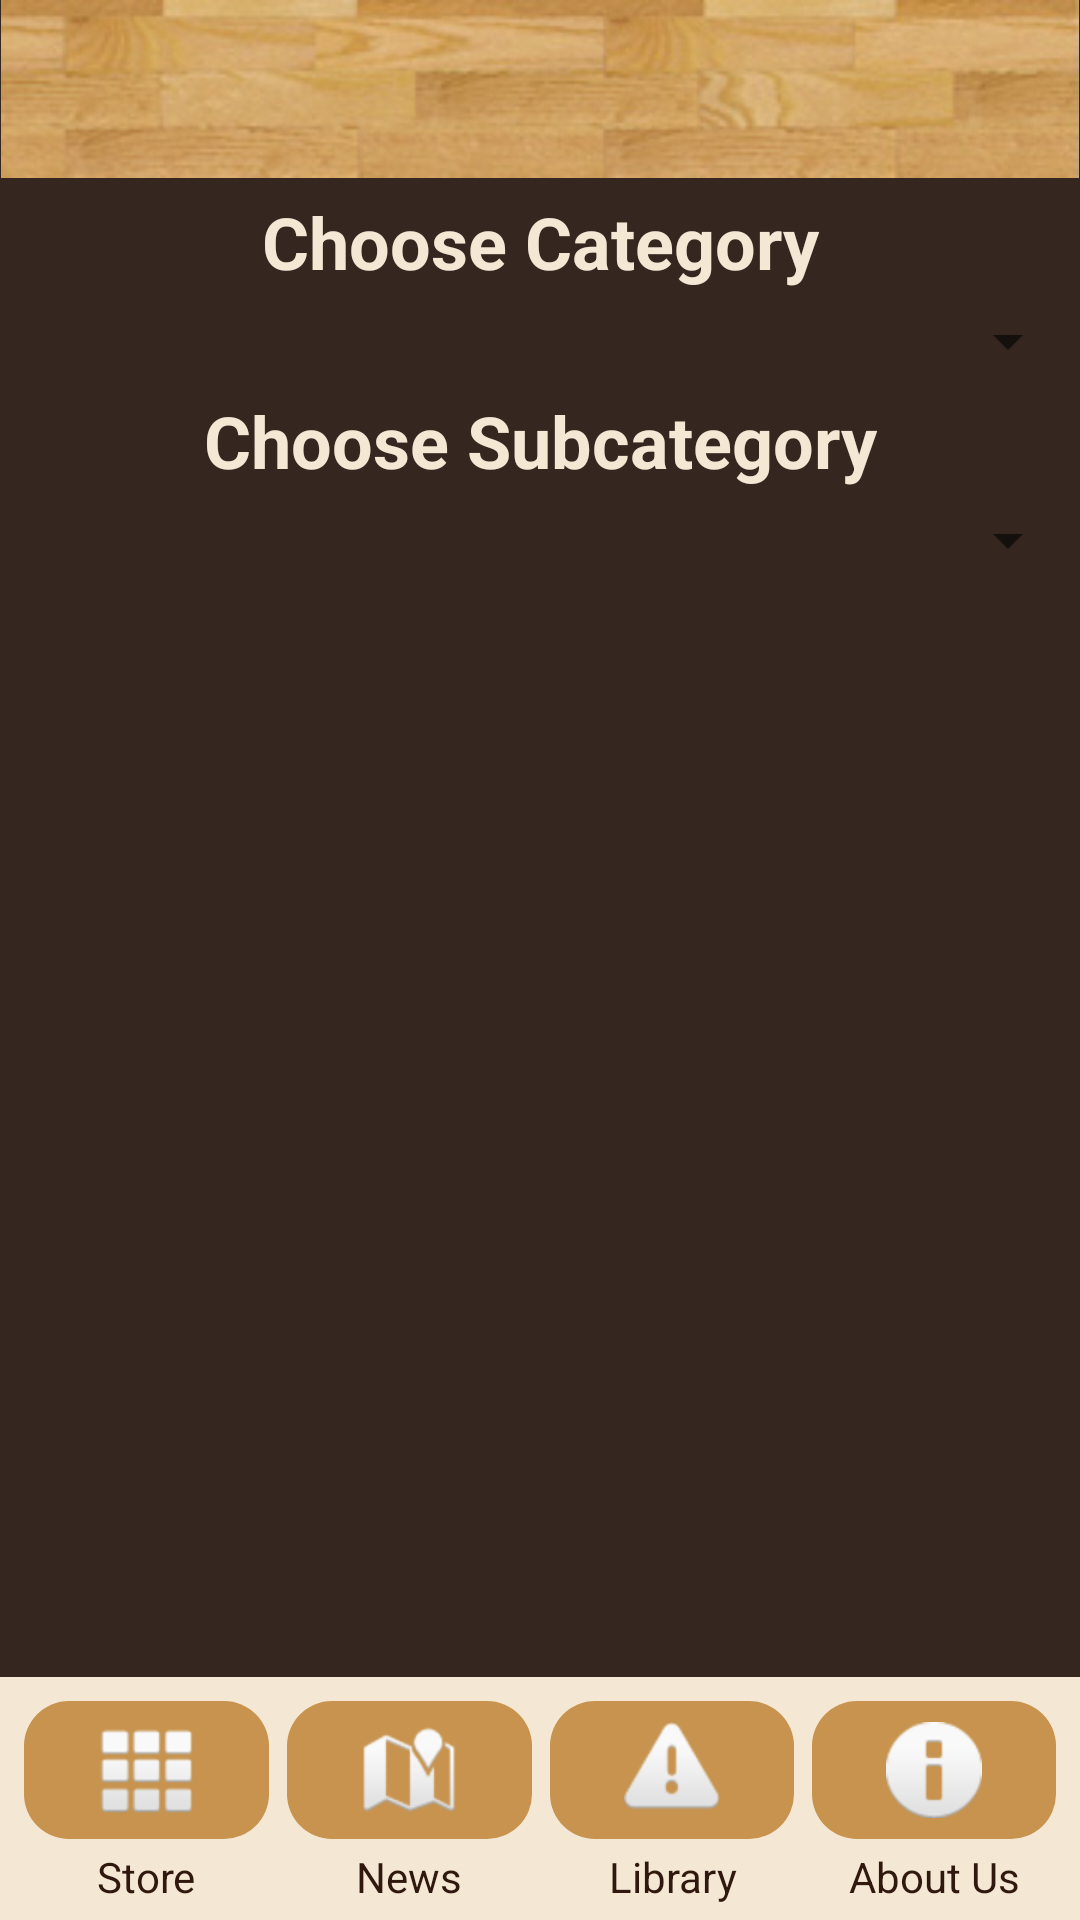

Icons on this 1080 x 1920 Android screen, each with its box as bbox=(x1, y1, x2, y2):
alert: bbox=(550, 1701, 794, 1839)
dialer: bbox=(24, 1701, 269, 1839)
info: bbox=(812, 1701, 1056, 1839)
map: bbox=(287, 1701, 532, 1839)
